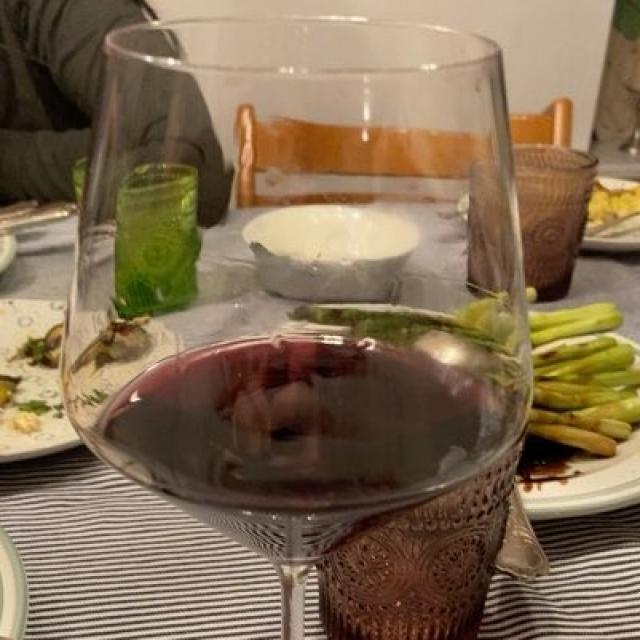wine: (85, 329, 509, 552)
